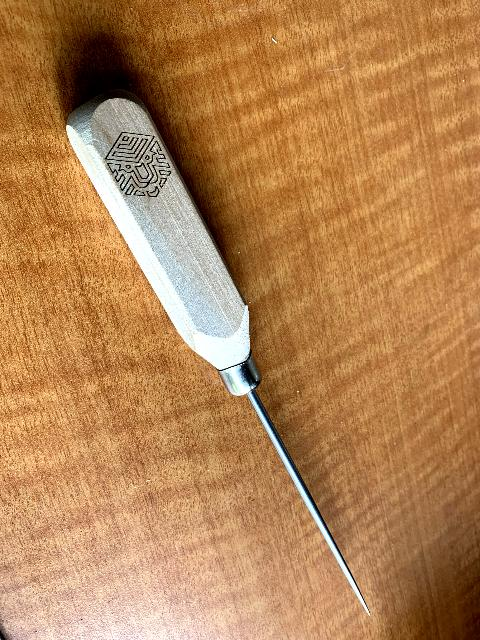ice pick: (66, 87, 370, 616)
